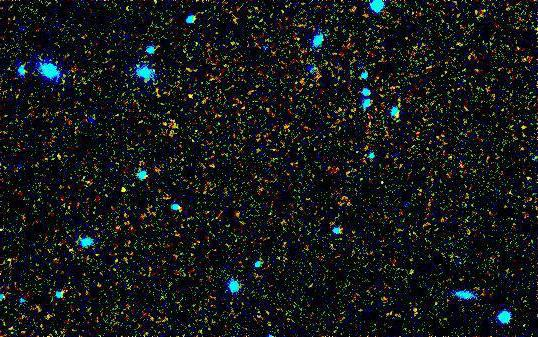star: (108, 176, 138, 206)
